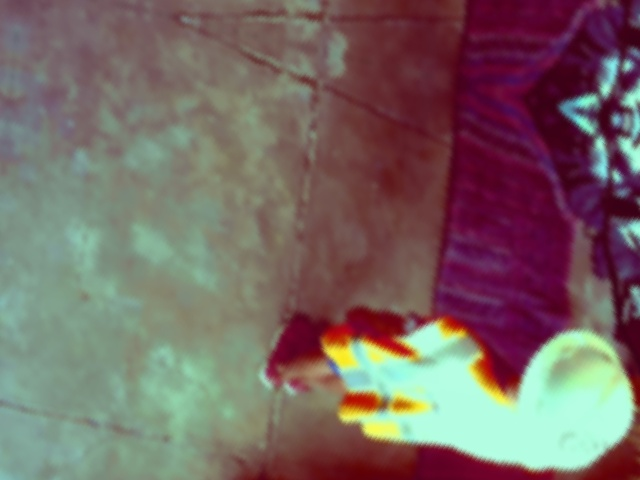eight: (556, 425, 608, 467)
